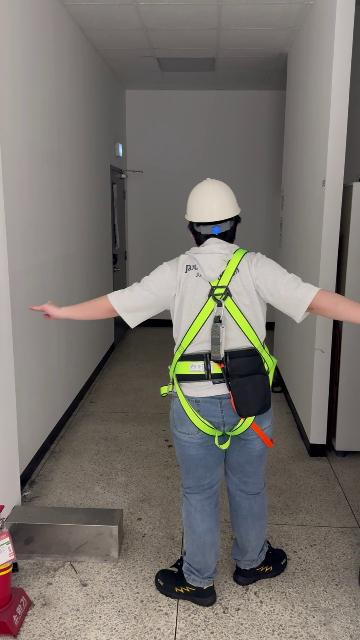helmet_worn: (183, 176, 242, 223)
shoe_worn: (154, 558, 216, 606), (233, 541, 287, 586)
vest_worn: (161, 253, 278, 442)
